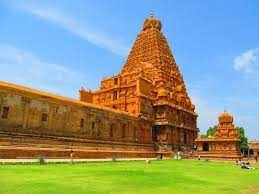Temple: (102, 13, 198, 146), (211, 110, 241, 158)
